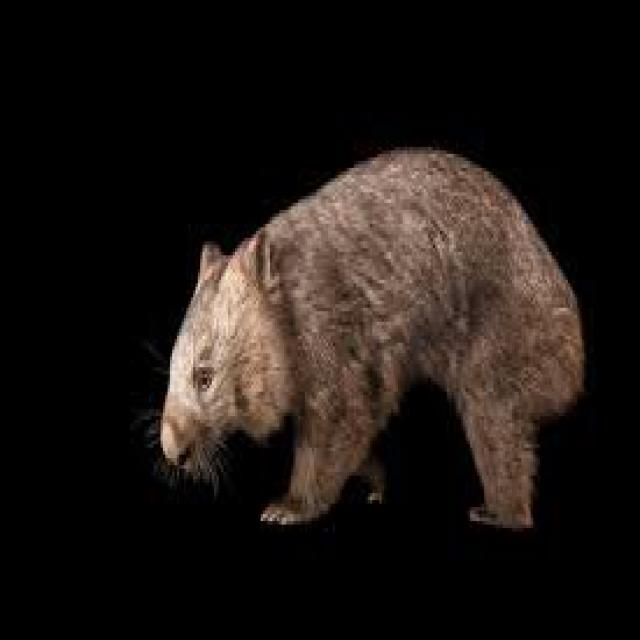wombats: (133, 147, 588, 534)
